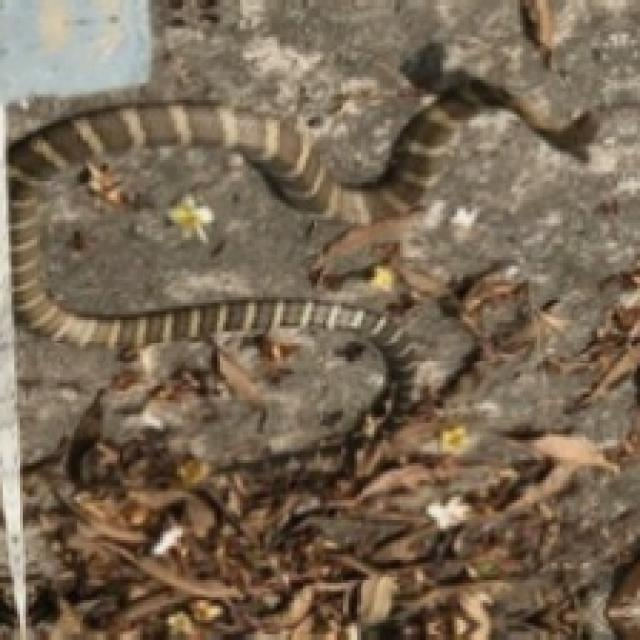king cobra: (9, 46, 594, 409)
